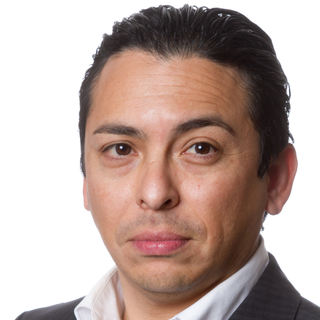eye: (97, 139, 143, 162), (176, 138, 222, 159)
